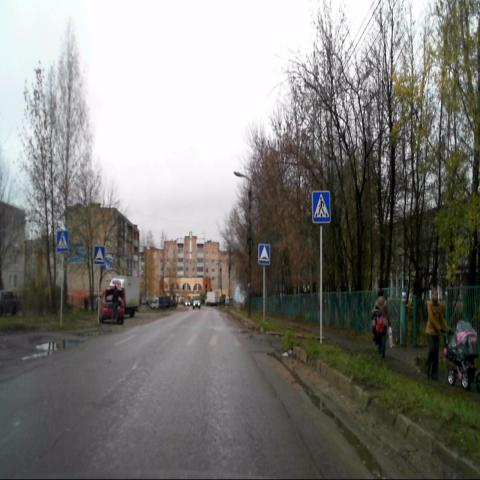5_20: (94, 244, 104, 264)
